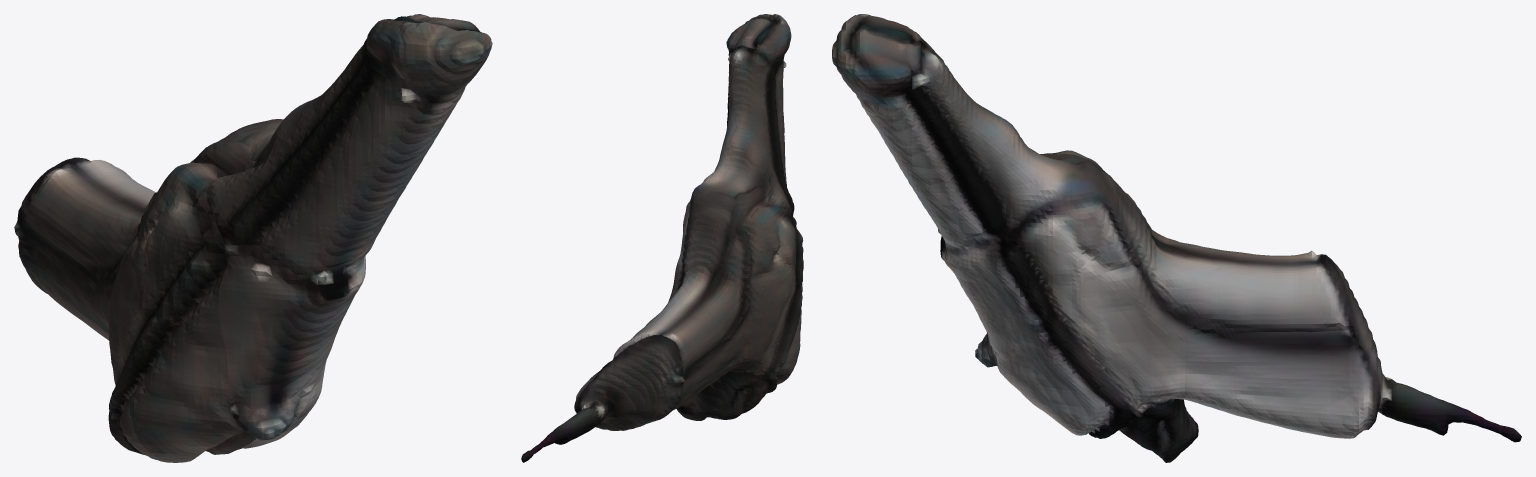
3 views of the same model, side by side, from view 1: azimuth 30°, elevation 25°; view 2: azimuth 150°, elevation 25°; view 3: azimuth 270°, elevation 25° (orthographic). The views are drawn at different scales.
Size of the model in its own units: 0.3238 by 0.7315 by 1.
